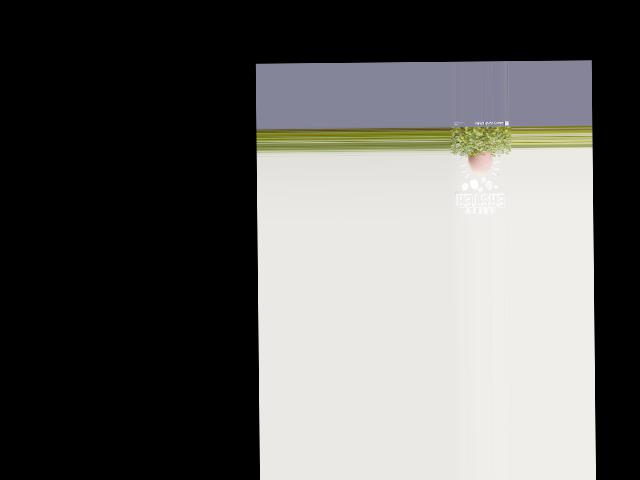egg: (466, 150, 491, 174)
